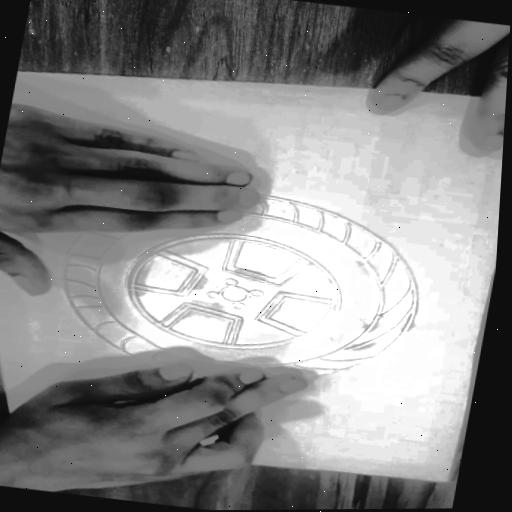tire: (22, 171, 445, 400)
top_right: (440, 479, 450, 485)
